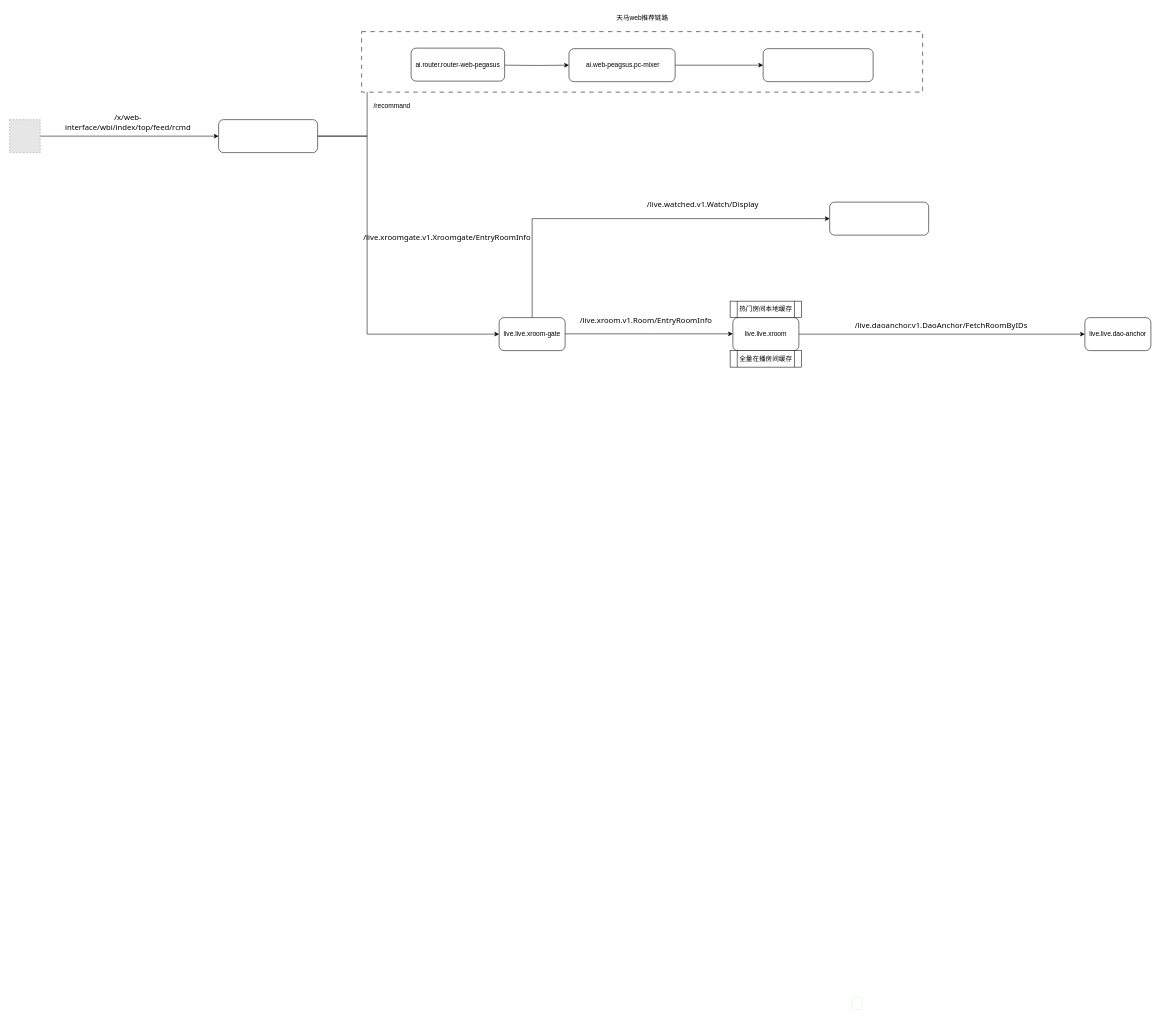
This 1161x1027 diagram has some shape labels left out. Grey dashed boxes stand in for pictures. Here are the shapes that lost their labels. From the top down, the centre of each, then its label:
the point at 818,65: ai.live.livestream-feed
the point at 268,136: main.web-svr.web-interface
the point at 879,218: live . live . watched
